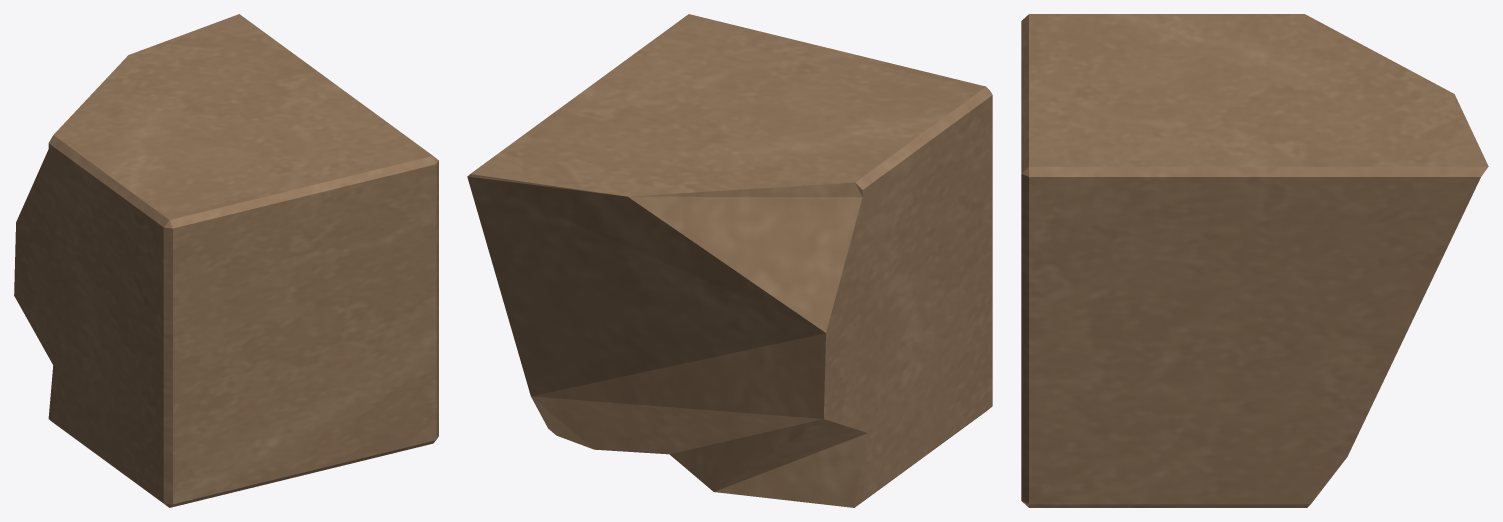
Rendered from Brick_Broken_Front.FBX.
3 views of the same model, side by side, from view 1: azimuth 30°, elevation 25°; view 2: azimuth 150°, elevation 25°; view 3: azimuth 270°, elevation 25° (orthographic). The views are drawn at different scales.
Visible parts, largest first — view 1: Brick_Broken_h1; view 2: Brick_Broken_h1; view 3: Brick_Broken_h1.
Boxes of the visible parts, box(x1,y1,x2,y2) form: Brick_Broken_h1: box(14, 14, 438, 507); Brick_Broken_h1: box(467, 14, 992, 507); Brick_Broken_h1: box(1021, 14, 1488, 507).
Bounding box in the file's own units: 24 × 24 × 29.78.
